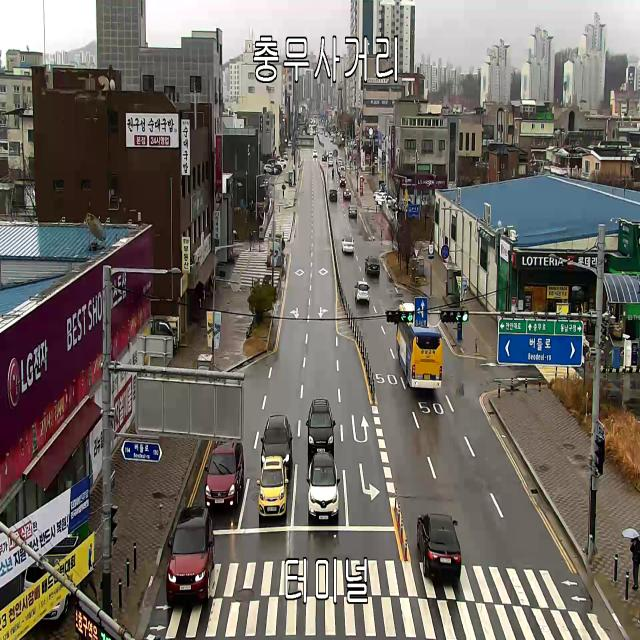Bus: (396, 302, 442, 389)
Car: (166, 507, 215, 600), (417, 513, 462, 580), (204, 441, 244, 508), (306, 452, 341, 520), (256, 456, 289, 516), (260, 415, 292, 475), (306, 398, 336, 454), (354, 282, 370, 304), (365, 256, 380, 277), (378, 195, 396, 207), (342, 237, 354, 253), (262, 164, 278, 174), (329, 189, 338, 203), (376, 192, 388, 202), (348, 205, 357, 218), (373, 188, 385, 197), (277, 159, 286, 169), (343, 189, 351, 199), (340, 166, 346, 177), (338, 164, 344, 174), (340, 178, 346, 187), (328, 158, 334, 167), (283, 152, 288, 161), (322, 154, 327, 162), (336, 158, 342, 164), (313, 150, 317, 157), (338, 161, 342, 168), (374, 156, 377, 164), (329, 153, 333, 158)
Truck: (24, 536, 80, 620), (148, 317, 174, 352)
